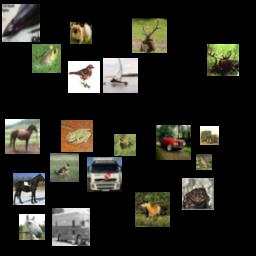airplane: (2, 4, 40, 42)
automobile: (156, 125, 191, 160)
bird: (68, 61, 100, 93), (196, 154, 212, 170)
deer: (135, 192, 170, 227), (132, 18, 167, 53), (207, 44, 239, 76), (114, 134, 136, 156)
dog: (50, 153, 79, 182), (70, 22, 92, 44)
frog: (182, 178, 214, 210), (61, 120, 93, 152), (32, 44, 61, 73)
ship: (103, 58, 138, 93)
truck: (52, 208, 90, 246), (87, 157, 122, 192), (200, 126, 219, 145)
